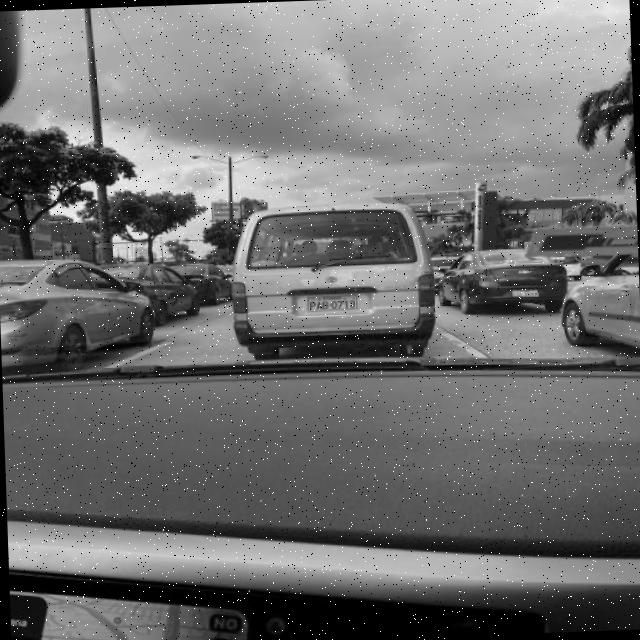Placa: (306, 294, 357, 312), (513, 289, 537, 296)
